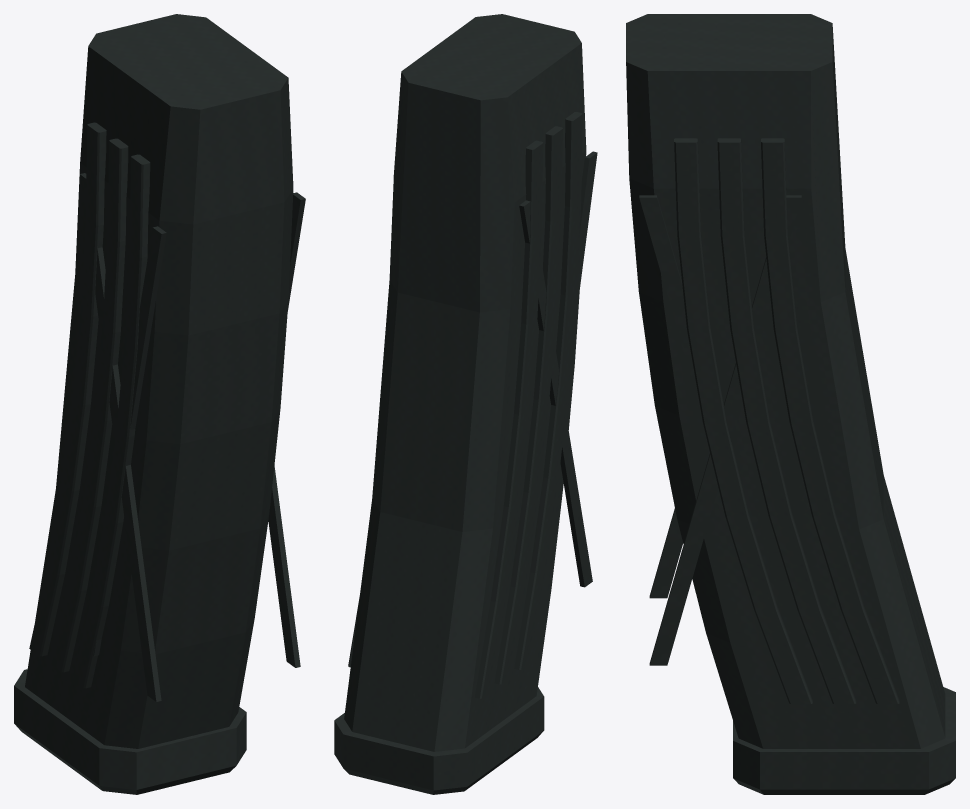
File: scorpion_20.glb
The picture shows the model from 3 angles, left to right: view 1: azimuth 30°, elevation 25°; view 2: azimuth 150°, elevation 25°; view 3: azimuth 270°, elevation 25°; orthographic projection. The views are drawn at different scales.
Visible parts, largest first — view 1: scorpion_20_individual_shell, scorpion_20_individual_shell.001; view 2: scorpion_20_individual_shell.001, scorpion_20_individual_shell; view 3: scorpion_20_individual_shell, scorpion_20_individual_shell.001.
Part boxes in pixels (bbox=[...]): scorpion_20_individual_shell: bbox=[14, 14, 305, 794]; scorpion_20_individual_shell.001: bbox=[25, 274, 153, 743]; scorpion_20_individual_shell.001: bbox=[344, 72, 578, 751]; scorpion_20_individual_shell: bbox=[334, 14, 597, 794]; scorpion_20_individual_shell: bbox=[626, 14, 955, 794]; scorpion_20_individual_shell.001: bbox=[664, 27, 945, 748].
Size of the model in its own units: 0.0575 by 0.269 by 0.1118.
1 material, 1 textured.
